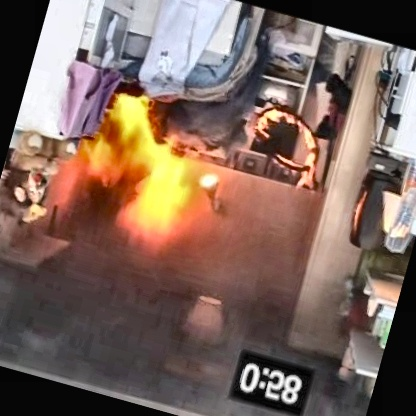fire: (65, 122, 199, 245)
